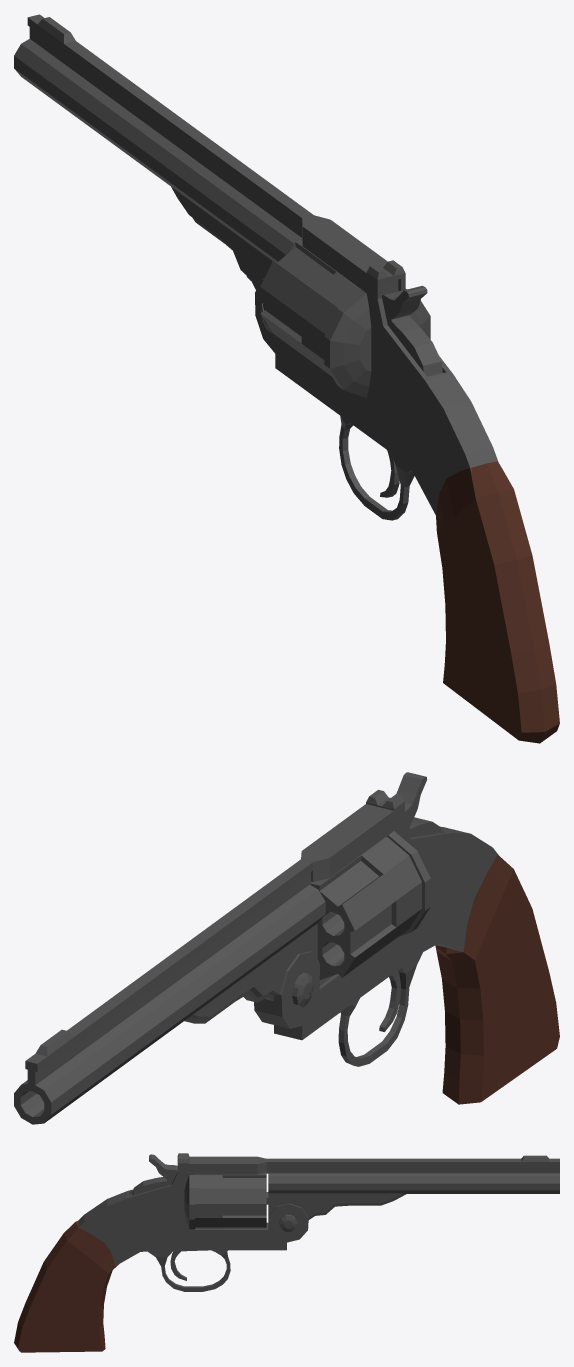
File: Schofield Revolver.glb
The picture shows the model from 3 angles, top to bottom: view 1: azimuth 30°, elevation 25°; view 2: azimuth 150°, elevation 25°; view 3: azimuth 270°, elevation 25°; orthographic projection. The views are drawn at different scales.
Visible parts, largest first — view 1: Schofield Revolver; view 2: Schofield Revolver; view 3: Schofield Revolver.
Part boxes in pixels (x1,y1,x2,y2): Schofield Revolver: (14, 14, 559, 743); Schofield Revolver: (14, 772, 559, 1124); Schofield Revolver: (14, 1153, 559, 1352).
Bounding box in the file's own units: 5.13 × 17.74 × 45.09.
